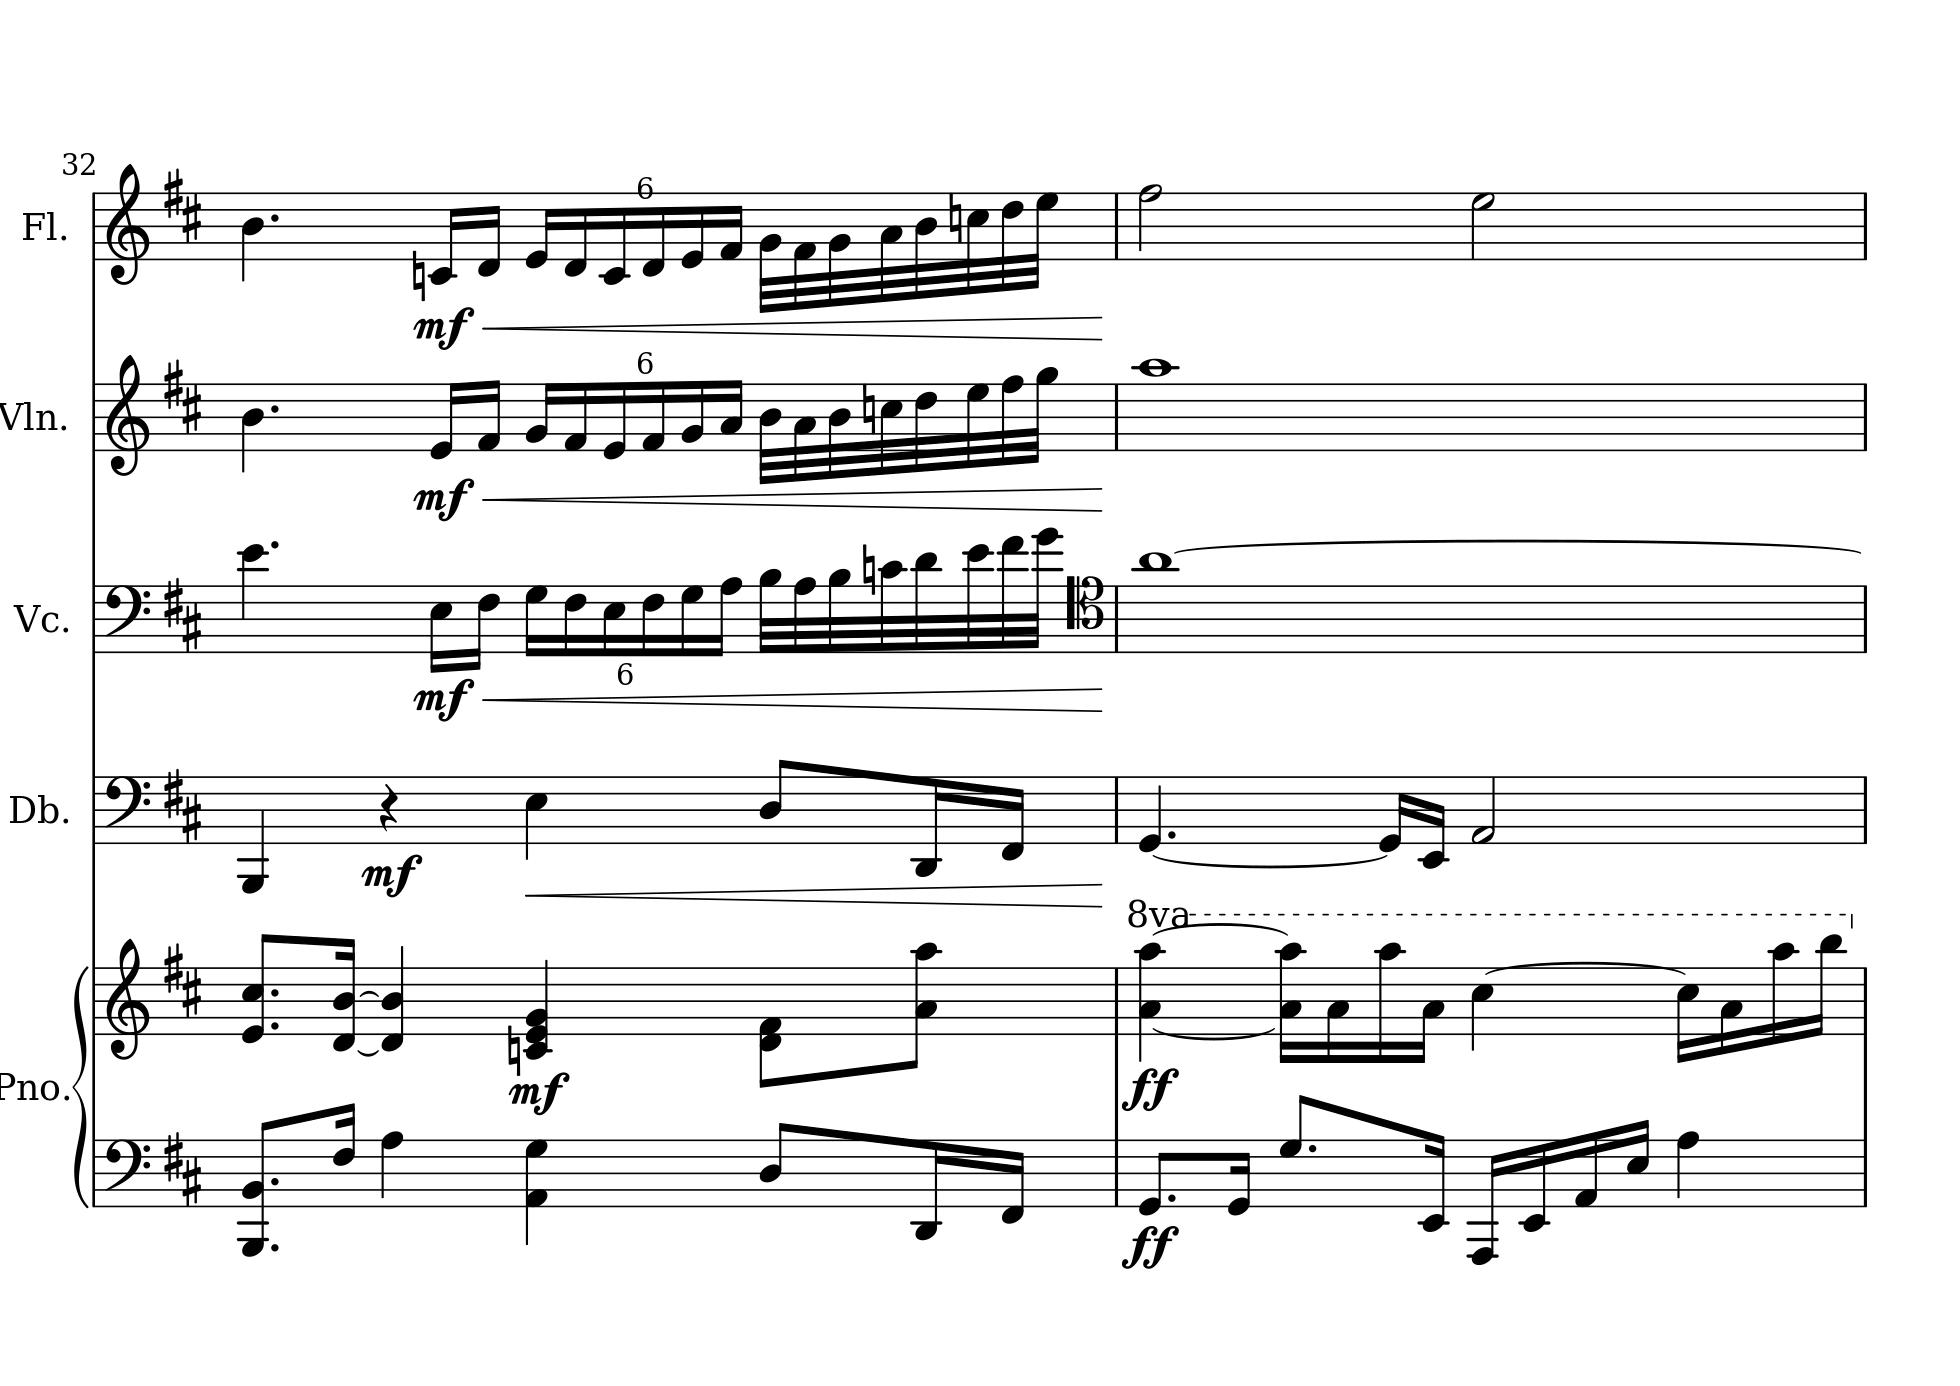16_-1: (1000, 1137, 1027, 1225), (475, 190, 502, 277), (562, 190, 589, 277), (640, 190, 667, 277), (1000, 772, 1026, 864)
16_-1_4: (331, 936, 358, 1053)
16_-2: (427, 190, 462, 286), (1419, 1129, 1449, 1234), (1419, 774, 1449, 870), (600, 190, 628, 285), (1519, 1138, 1548, 1233)
16_-3: (910, 1138, 946, 1240), (912, 774, 945, 877)
16_-6: (1467, 1137, 1504, 1266)
16_0: (427, 379, 463, 460), (1377, 774, 1410, 855), (523, 190, 556, 268), (1224, 1137, 1254, 1218), (601, 379, 628, 460), (679, 190, 706, 270)
16_1: (1573, 1129, 1600, 1210), (475, 378, 502, 453), (562, 379, 589, 453), (718, 190, 745, 262), (640, 379, 667, 451)
16_10: (1375, 940, 1405, 1063), (1768, 940, 1798, 1047)
16_11: (1810, 933, 1843, 1038)
16_2: (523, 379, 556, 451), (679, 378, 706, 451)
16_3: (1414, 964, 1446, 1065), (1326, 964, 1351, 1063), (1719, 964, 1744, 1056), (718, 376, 745, 451)
16_5: (1675, 964, 1701, 1063), (427, 583, 453, 673), (1626, 1117, 1651, 1207), (601, 582, 627, 657)
16_6: (466, 582, 501, 670), (331, 1099, 358, 1209), (562, 583, 589, 657), (640, 583, 666, 657)
16_7: (523, 582, 549, 658), (678, 582, 703, 658)
16_8: (709, 574, 742, 658)
1_10: (1137, 357, 1174, 453)
1_11: (1134, 550, 1174, 655)
2: (78, 150, 96, 175)
2_1: (1470, 774, 1498, 846)
2_7: (1470, 189, 1497, 262)
2_8: (1137, 181, 1164, 262)
3: (61, 151, 76, 175)
32_1: (792, 189, 817, 312)
32_10: (877, 559, 904, 655)
32_11: (912, 550, 939, 654)
32_12: (961, 543, 993, 654), (997, 535, 1026, 655)
32_14: (1029, 526, 1065, 655)
32_2: (757, 189, 784, 313), (826, 190, 853, 307)
32_3: (877, 187, 903, 304), (792, 381, 817, 481)
32_4: (757, 379, 783, 484), (913, 189, 937, 300), (826, 381, 852, 480)
32_5: (966, 190, 990, 295), (879, 381, 903, 474)
32_6: (913, 379, 937, 472), (1002, 190, 1023, 294)
32_7: (1027, 190, 1059, 289), (964, 379, 990, 469)
32_8: (1000, 373, 1024, 466), (792, 576, 816, 655)
32_9: (1029, 363, 1059, 466), (757, 565, 783, 657), (826, 567, 850, 655)
4_-1_4: (381, 943, 406, 1054)
4_-5: (238, 772, 271, 894)
4_0: (1137, 772, 1164, 853)
4_12: (237, 541, 268, 655)
4_1_7: (523, 1137, 550, 1243)
4_3_10: (1134, 940, 1164, 1066)
4_4: (240, 379, 265, 474), (240, 190, 265, 282)
4_5: (523, 772, 549, 862), (1470, 964, 1495, 1053)
4_8: (1674, 1128, 1701, 1209), (379, 1129, 403, 1209)
4_th: (523, 958, 553, 1059)
6: (636, 175, 655, 199)
8_-1_1: (757, 964, 784, 1090)
8_-5_0: (238, 1117, 276, 1258)
8_0: (1137, 1135, 1173, 1213)
8_0_5: (240, 933, 279, 1041)
8_3_10: (901, 940, 939, 1069)
8_4: (757, 1120, 793, 1209), (757, 757, 792, 846)
8_7: (1278, 1090, 1311, 1209)
Brace: (70, 963, 88, 1210)
Crescendo_hairpin: (478, 313, 1104, 340), (484, 486, 1105, 511), (484, 687, 1104, 712), (523, 882, 1101, 907)
D_S: (162, 354, 202, 433), (162, 940, 202, 1018), (162, 166, 202, 243), (163, 1129, 202, 1206), (163, 576, 202, 651), (163, 766, 202, 841)
Dbs: (3, 790, 60, 826)
Fclef: (102, 1137, 151, 1207), (103, 583, 151, 655), (103, 774, 151, 844)
Fl: (18, 207, 58, 246)
Gclef: (103, 352, 150, 477), (103, 936, 150, 1060), (103, 160, 148, 286)
Natural: (859, 541, 876, 598), (409, 249, 426, 301), (505, 1023, 522, 1075), (946, 190, 961, 244), (861, 381, 876, 435)
Pno: (1, 1069, 61, 1105)
Rests4: (378, 781, 400, 832)
Single_barline: (1107, 585, 1125, 651), (1110, 967, 1128, 1033), (1110, 192, 1126, 259), (1857, 192, 1873, 259), (1108, 382, 1125, 450), (1857, 382, 1873, 450), (1108, 1138, 1125, 1206), (1857, 775, 1873, 841), (1857, 585, 1872, 652), (1858, 966, 1873, 1033), (1857, 1138, 1872, 1206), (1110, 777, 1125, 841), (87, 190, 100, 259), (88, 775, 102, 844), (88, 966, 102, 1035), (87, 382, 100, 450), (87, 585, 100, 652), (88, 1138, 102, 1206)
Slur: (1167, 538, 1867, 562), (1483, 955, 1689, 979), (1152, 853, 1383, 867), (1153, 919, 1288, 939), (1152, 1024, 1275, 1039), (358, 988, 379, 997), (355, 1048, 379, 1056)
Tensor_Cclef: (1065, 574, 1105, 652)
Vc: (10, 595, 67, 634)
Vln: (1, 394, 58, 439)
dot: (267, 400, 282, 415), (267, 210, 282, 223), (1165, 826, 1179, 841), (1306, 1140, 1320, 1153), (268, 1173, 282, 1186), (267, 538, 280, 550), (1165, 1191, 1179, 1203), (268, 1240, 280, 1254), (268, 985, 280, 997), (268, 1018, 280, 1030)
ff: (1117, 1222, 1182, 1270), (1120, 1063, 1182, 1113)
mf: (411, 676, 477, 726), (360, 850, 424, 898), (412, 475, 475, 523), (412, 304, 475, 351), (508, 1069, 571, 1114)
